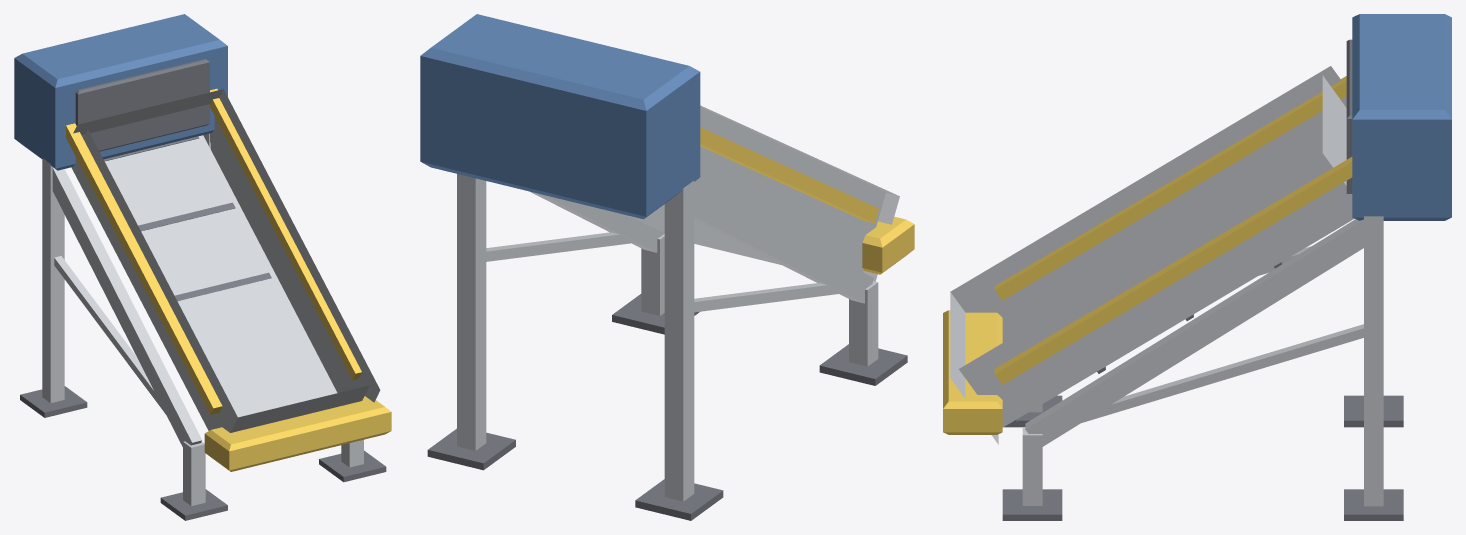
The model's file is airport-terminal-and-ground-operations-baggage-chute-ba646fea__26058.glb.
The picture shows the model from 3 angles, left to right: view 1: azimuth 30°, elevation 25°; view 2: azimuth 150°, elevation 25°; view 3: azimuth 270°, elevation 25°; orthographic projection. The views are drawn at different scales.
Visible parts, largest first — view 1: baggage-chute; view 2: baggage-chute; view 3: baggage-chute.
Boxes of the visible parts, x1=… form: baggage-chute: x1=14, y1=14, x2=391, y2=520; baggage-chute: x1=420, y1=14, x2=914, y2=520; baggage-chute: x1=943, y1=14, x2=1451, y2=520.
Size of the model in its own units: 1.98 by 3.1 by 3.58.
